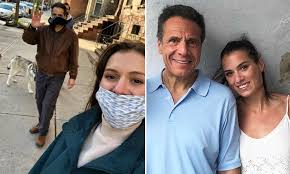mask_weared_incorrect: (97, 67, 145, 129)
with_mask: (50, 9, 66, 28)
without_mask: (165, 26, 200, 76), (226, 58, 259, 94)
